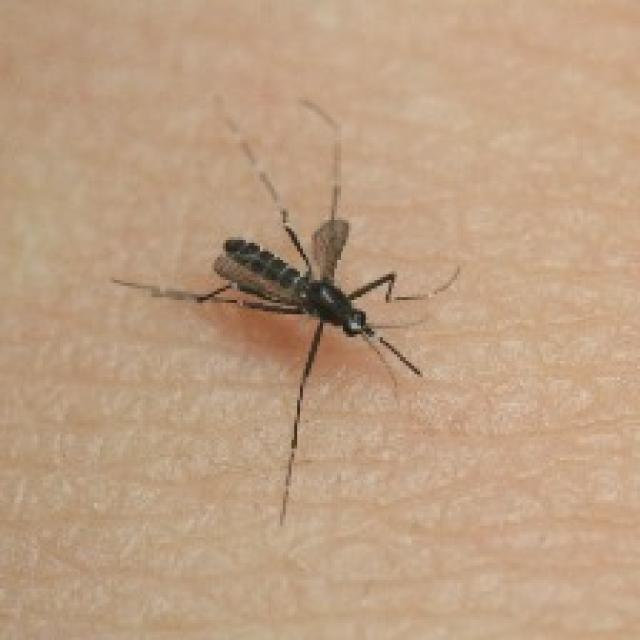aedes: (109, 91, 460, 526)
